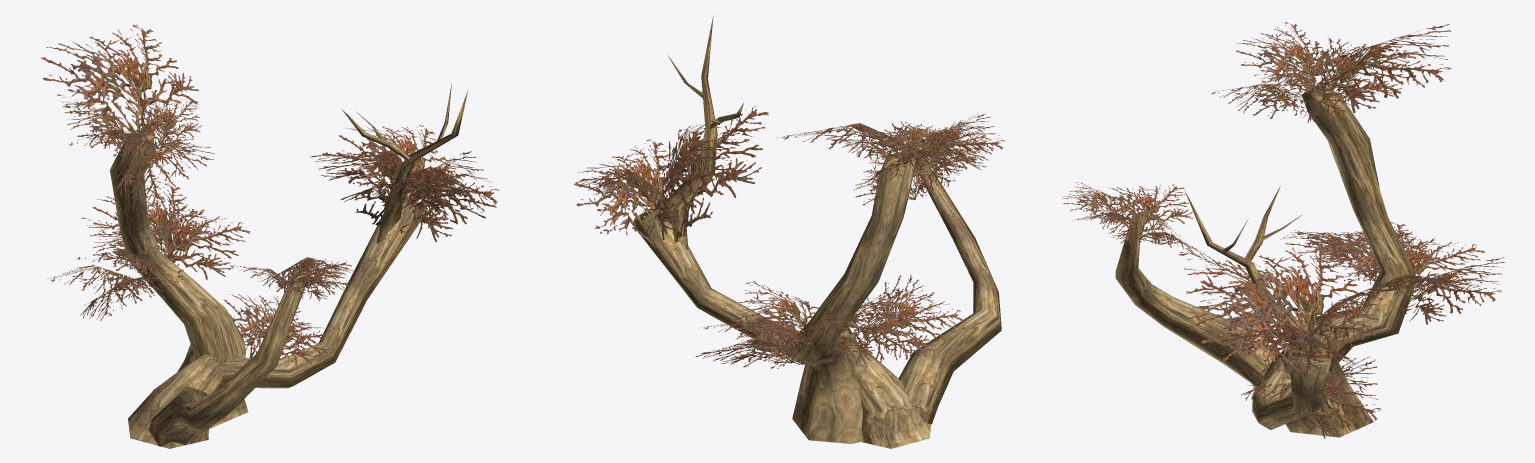
Rendered from S_Tree_Yellow025.FBX.
3 renders of one model, left to right at view 1: azimuth 30°, elevation 25°; view 2: azimuth 150°, elevation 25°; view 3: azimuth 270°, elevation 25°, orthographic. The views are drawn at different scales.
Visible parts, largest first — view 1: S_Tree_Yellow025; view 2: S_Tree_Yellow025; view 3: S_Tree_Yellow025.
Part boxes in pixels (x1=…): S_Tree_Yellow025: x1=41, y1=24, x2=498, y2=448; S_Tree_Yellow025: x1=574, y1=16, x2=1005, y2=448; S_Tree_Yellow025: x1=1062, y1=22, x2=1504, y2=438.
Bounding box in the file's own units: 1186 × 1043 × 860.
